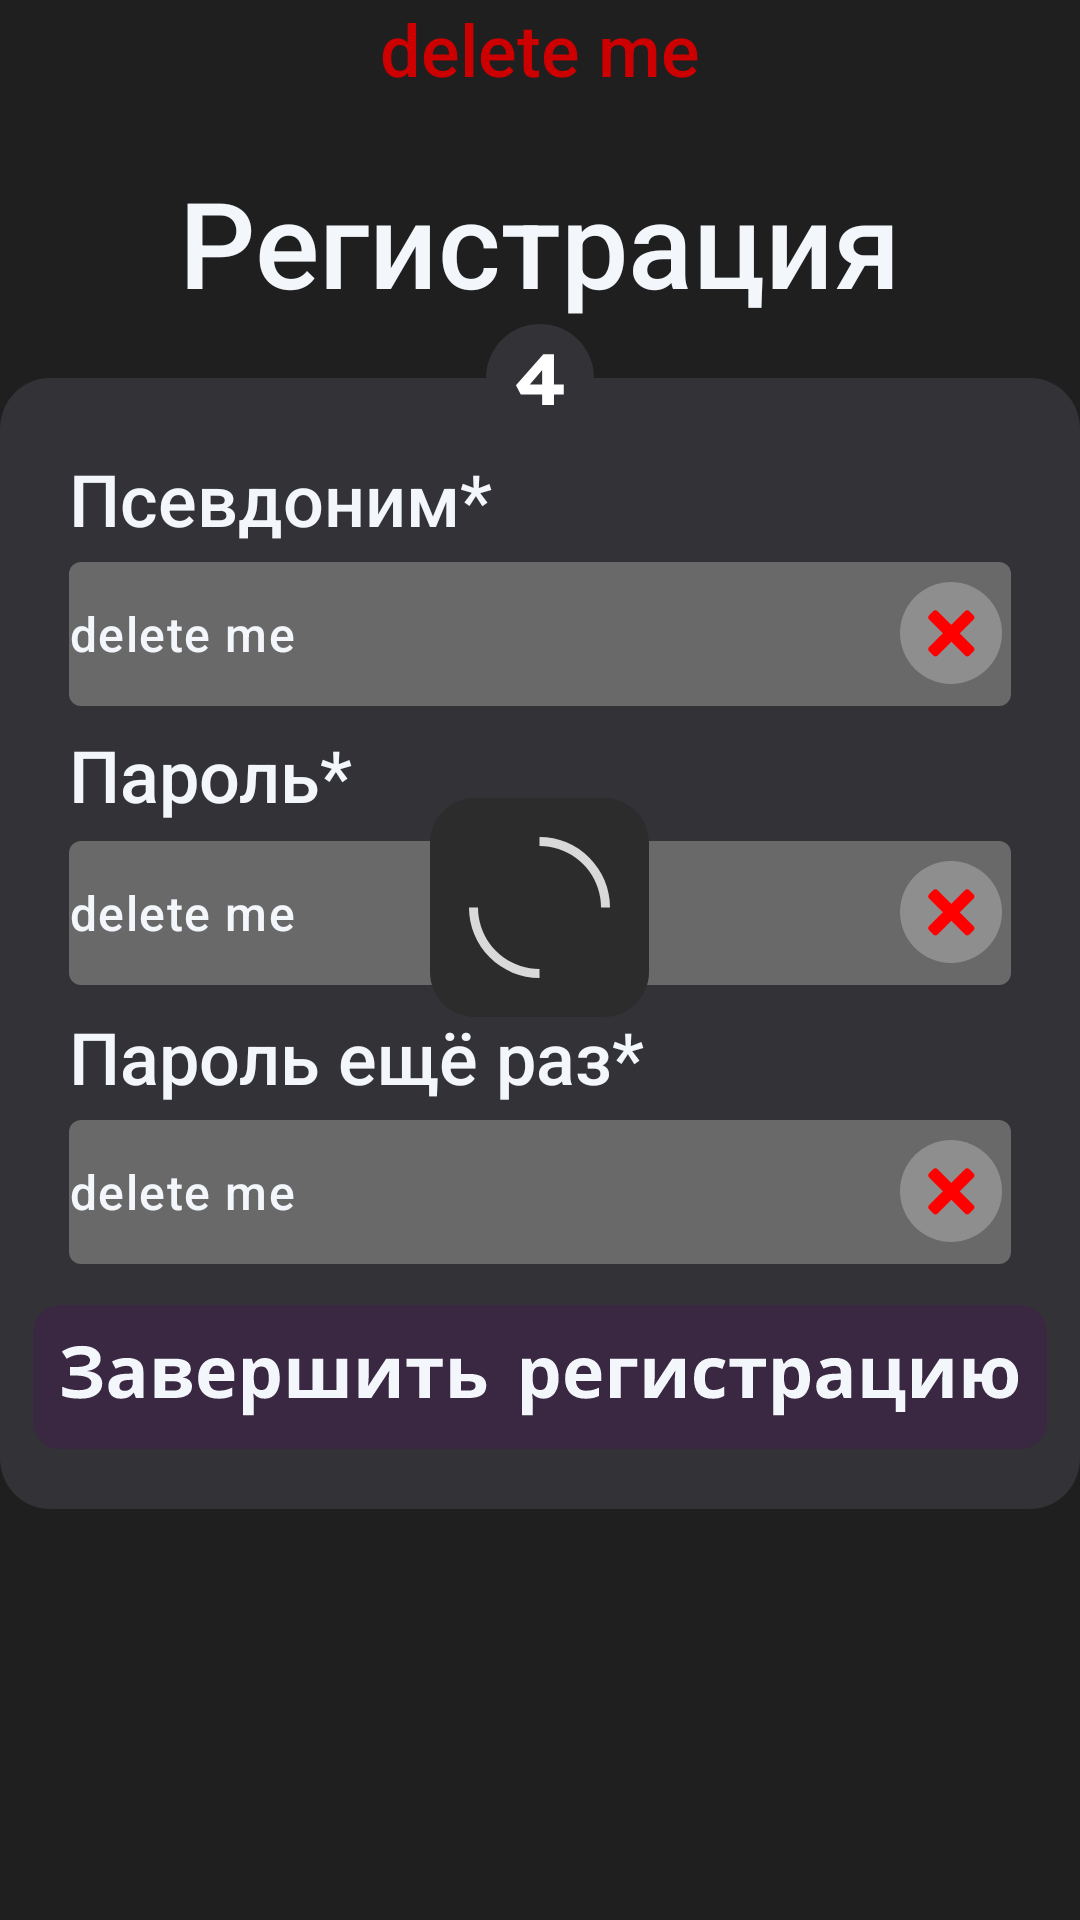

Where to tap for icons on this 1080×1920 app screen, as [x,y]:
loading anim: [539,907]
pagenumberimage: [540,370]
wronglineimage: [951,633], [951,912], [951,1191]
